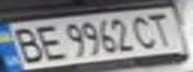2: (109, 15, 136, 53)
6: (100, 16, 121, 55)
9: (60, 19, 87, 58), (81, 18, 103, 56)
B: (3, 24, 48, 64)
C: (127, 11, 163, 50)
E: (30, 21, 66, 62)
T: (142, 10, 181, 46)
